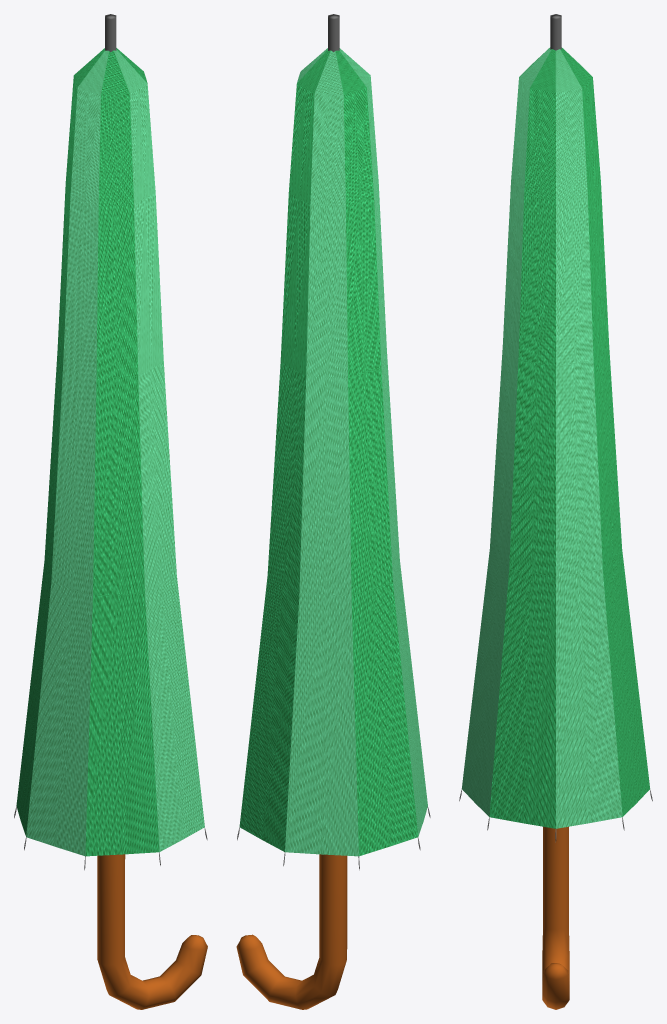
The model's file is Umbrella_anim01.fbx.
3 renders of one model, left to right at view 1: azimuth 30°, elevation 25°; view 2: azimuth 150°, elevation 25°; view 3: azimuth 270°, elevation 25°, orthographic. The views are drawn at different scales.
Parts seen in each view (by area): view 1: Umbrella_anim; view 2: Umbrella_anim; view 3: Umbrella_anim.
Boxes of the visible parts, left/top/right/bottom form: Umbrella_anim: left=14, top=14, right=207, bottom=1009; Umbrella_anim: left=236, top=14, right=430, bottom=1009; Umbrella_anim: left=459, top=14, right=652, bottom=1009.
Size of the model in its own units: 16.98 by 89.14 by 16.19.
Materials: 1 (1 with a texture image).
